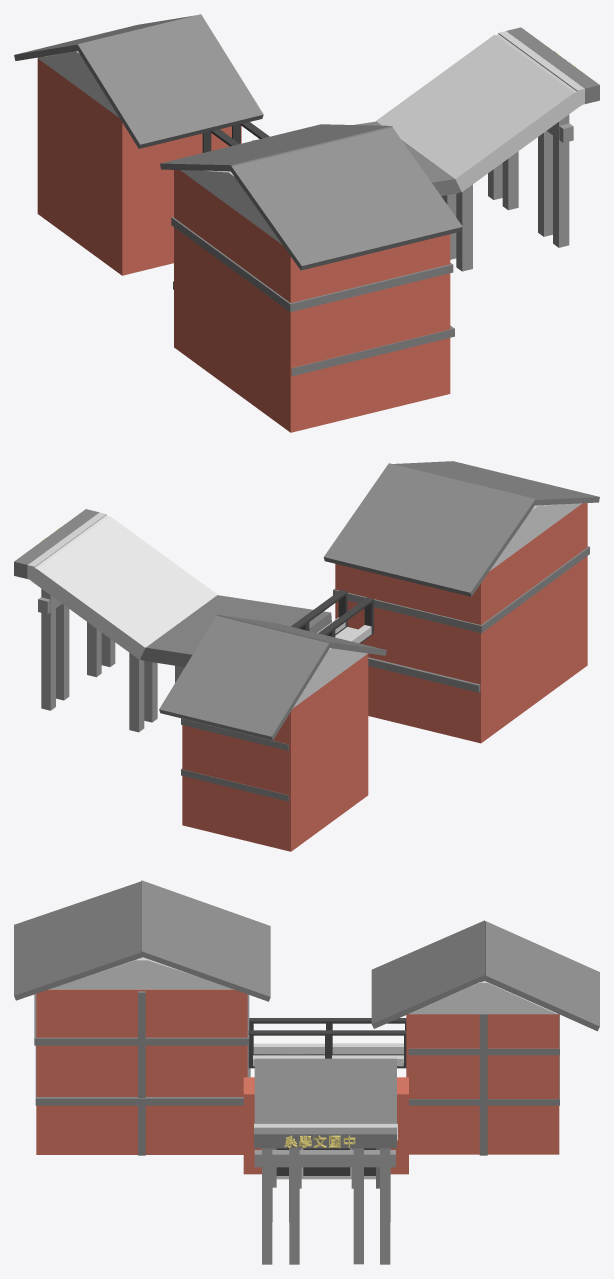
File: 中文系.fbx
3 views of the same model, one above another, from view 1: azimuth 30°, elevation 25°; view 2: azimuth 150°, elevation 25°; view 3: azimuth 270°, elevation 25° (orthographic). The views are drawn at different scales.
Visible parts, largest first — view 1: 立方體, 立方體.001, 立方體.002, 立方體.004, 立方體.003, 立方體.040, 立方體.005, 立方體.039, 立方體.038, 立方體.006, 立方體.041, 立方體.010 (+3 smaller); view 2: 立方體, 立方體.002, 立方體.001, 立方體.004, 立方體.003, 立方體.016, 立方體.040, 立方體.008, 立方體.039, 立方體.038, 立方體.007, 立方體.010 (+8 smaller); view 3: 立方體, 立方體.001, 立方體.002, 立方體.003, 立方體.016, 立方體.032, 立方體.010, 立方體.037, 立方體.031, 立方體.009, 立方體.040, 立方體.041 (+17 smaller).
Part boxes in pixels (<box>): 立方體: <box>174,170,450,432</box>; 立方體.001: <box>160,124,462,270</box>; 立方體.002: <box>37,56,241,275</box>; 立方體.004: <box>376,31,584,191</box>; 立方體.003: <box>14,14,263,148</box>; 立方體.040: <box>171,217,453,311</box>; 立方體.005: <box>553,114,569,247</box>; 立方體.039: <box>180,170,282,244</box>; 立方體.038: <box>38,51,119,117</box>; 立方體.006: <box>538,131,552,236</box>; 立方體.041: <box>173,281,454,376</box>; 立方體.010: <box>506,27,599,103</box>; 立方體: <box>335,503,587,743</box>; 立方體.002: <box>182,653,368,851</box>; 立方體.001: <box>323,461,599,596</box>; 立方體.004: <box>27,512,217,659</box>; 立方體.003: <box>159,614,386,740</box>; 立方體.016: <box>134,595,331,666</box>; 立方體.040: <box>333,546,589,633</box>; 立方體.008: <box>41,589,55,710</box>; 立方體.039: <box>489,503,581,571</box>; 立方體.038: <box>293,648,367,707</box>; 立方體.007: <box>56,604,69,700</box>; 立方體.010: <box>14,509,99,578</box>; 立方體: <box>36,989,247,1154</box>; 立方體.001: <box>14,880,270,1001</box>; 立方體.002: <box>406,1014,559,1154</box>; 立方體.003: <box>371,920,599,1031</box>; 立方體.016: <box>254,1058,396,1123</box>; 立方體.032: <box>49,957,233,989</box>; 立方體.010: <box>254,1127,396,1148</box>; 立方體.037: <box>409,981,557,1014</box>; 立方體.031: <box>243,1077,408,1174</box>; 立方體.009: <box>254,1150,395,1167</box>; 立方體.040: <box>34,994,249,1045</box>; 立方體.041: <box>35,1045,250,1105</box>.
Size of the model in its own units: 2211 by 1117 by 2862.
